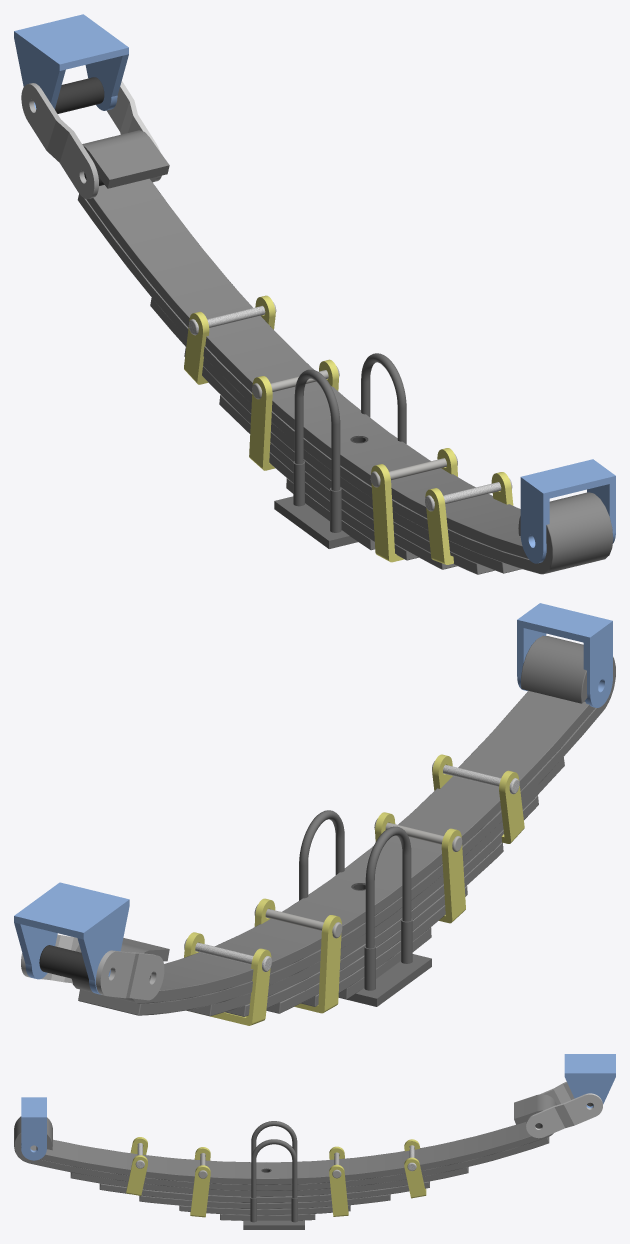
File: Leaf_Spring.glb
3 views of the same model, one above another, from view 1: azimuth 30°, elevation 25°; view 2: azimuth 150°, elevation 25°; view 3: azimuth 270°, elevation 25° (orthographic). The views are drawn at different scales.
Visible parts, largest first — view 1: Leaf-Layer, Support-Chassis, Clamp-Center, Support-Chassis Rigid, Support.002, Clamp-Primary.001, Clamp-Primary.002, Clamp-Secondary.002, Clamp-Secondary.001, Support-Rubber 60mm.001, Support.001; view 2: Leaf-Layer, Support-Chassis, Clamp-Center, Support-Chassis Rigid, Clamp-Primary.002, Support.002, Clamp-Primary.001, Clamp-Secondary.001, Clamp-Secondary.002, Support-Rubber 60mm.001, Support.001; view 3: Leaf-Layer, Clamp-Center, Support-Chassis, Support.001, Support-Chassis Rigid, Clamp-Primary.001, Clamp-Primary.002, Clamp-Secondary.002, Clamp-Secondary.001, Support.002.
Part boxes in pixels (x1,y1,x2,y2): Leaf-Layer: (77, 130, 613, 574); Support-Chassis: (14, 14, 128, 110); Clamp-Center: (274, 353, 406, 548); Support-Chassis Rigid: (520, 459, 615, 563); Support.002: (21, 83, 98, 198); Clamp-Primary.001: (370, 448, 457, 562); Clamp-Primary.002: (249, 359, 339, 470); Clamp-Secondary.002: (425, 472, 513, 564); Clamp-Secondary.001: (184, 295, 276, 384); Support-Rubber 60mm.001: (55, 77, 104, 113); Support.001: (106, 81, 161, 182); Leaf-Layer: (72, 635, 615, 1016); Support-Chassis: (14, 882, 129, 994); Clamp-Center: (299, 810, 431, 1006); Support-Chassis Rigid: (517, 603, 612, 707); Clamp-Primary.002: (254, 898, 342, 1013); Support.002: (96, 950, 164, 1000); Clamp-Primary.001: (374, 812, 465, 923); Clamp-Secondary.001: (184, 932, 271, 1025); Clamp-Secondary.002: (432, 754, 524, 843); Support-Rubber 60mm.001: (39, 945, 88, 982); Support.001: (21, 934, 78, 983); Leaf-Layer: (14, 1094, 556, 1220); Clamp-Center: (243, 1121, 304, 1229); Support-Chassis: (564, 1054, 615, 1108); Support.001: (526, 1093, 602, 1138); Support-Chassis Rigid: (21, 1097, 46, 1160); Clamp-Primary.001: (190, 1147, 210, 1217); Clamp-Primary.002: (329, 1146, 348, 1216); Clamp-Secondary.002: (126, 1137, 147, 1195); Clamp-Secondary.001: (404, 1139, 426, 1198); Support.002: (540, 1081, 574, 1104).
Size of the model in its own units: 0.124 by 0.3291 by 1.17.
19 materials, 2 textured.
